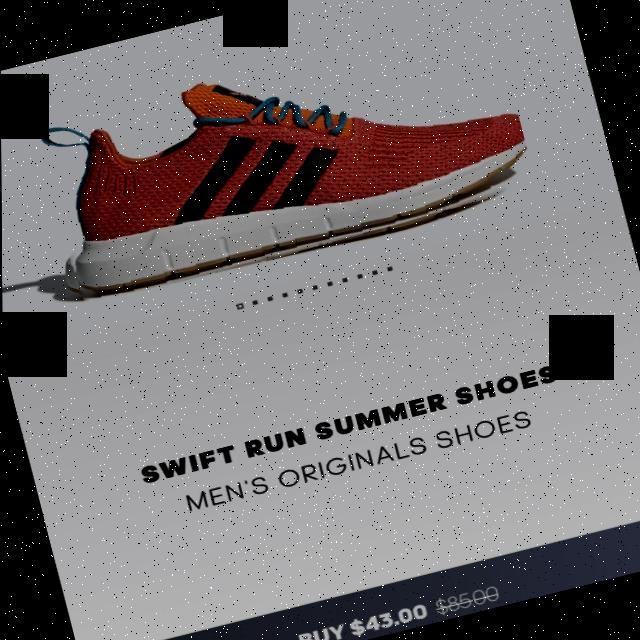shoe: (26, 14, 539, 314)
